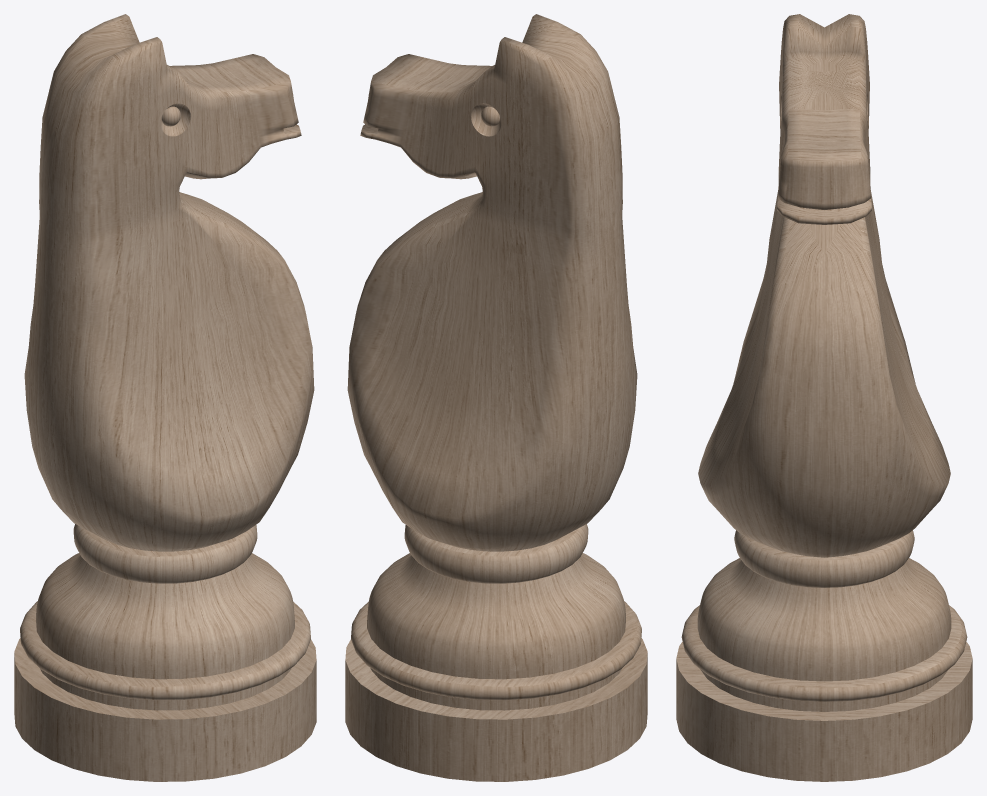
The model's file is white-knight.glb.
The picture shows the model from 3 angles, left to right: view 1: azimuth 30°, elevation 25°; view 2: azimuth 150°, elevation 25°; view 3: azimuth 270°, elevation 25°; orthographic projection. The views are drawn at different scales.
Parts seen in each view (by area): view 1: ScacchiBianchi_Cavallo.001_white_0; view 2: ScacchiBianchi_Cavallo.001_white_0; view 3: ScacchiBianchi_Cavallo.001_white_0.
Boxes of the visible parts, x1,y1,x2,y2 form: ScacchiBianchi_Cavallo.001_white_0: [14, 14, 316, 781]; ScacchiBianchi_Cavallo.001_white_0: [345, 14, 647, 781]; ScacchiBianchi_Cavallo.001_white_0: [676, 14, 972, 781].
Size of the model in its own units: 2.75 by 6.98 by 2.75.
Materials: 1 (1 with a texture image).
